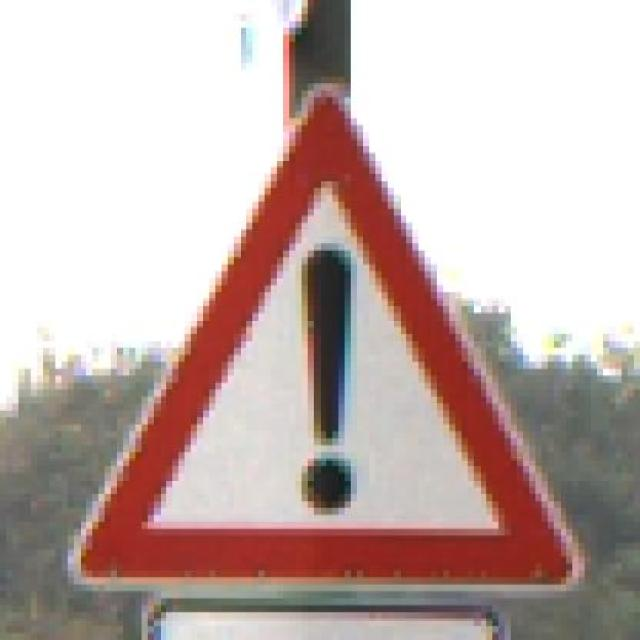Attention Please-: (39, 91, 581, 612)
